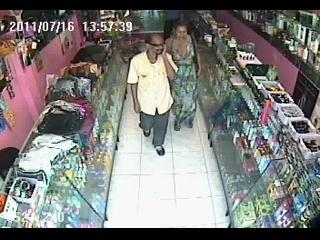Normal: (126, 32, 178, 156), (166, 19, 202, 132)
